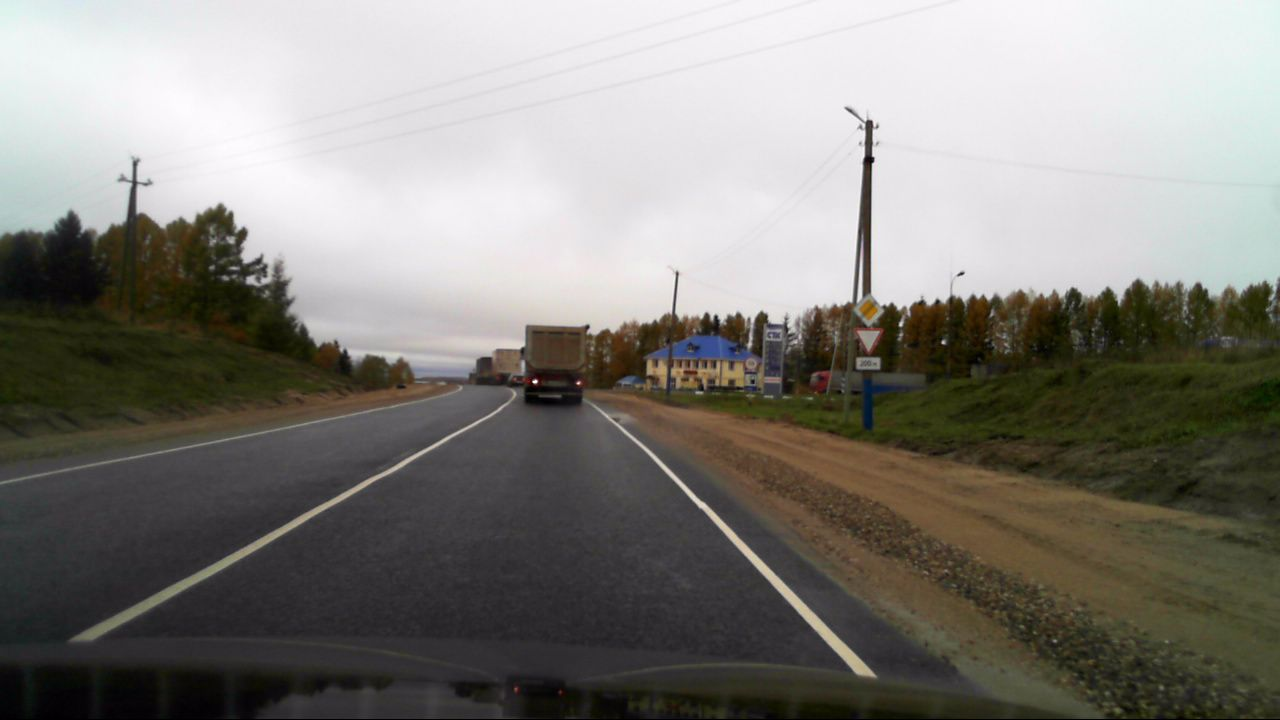main road: (851, 293, 884, 326)
